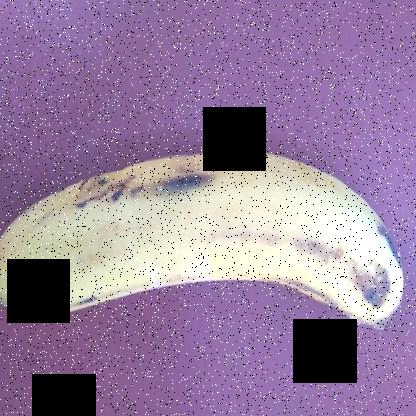ripe: (0, 126, 411, 350)
